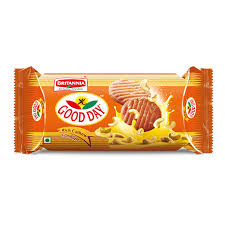gooday-medium: (12, 69, 216, 154)
